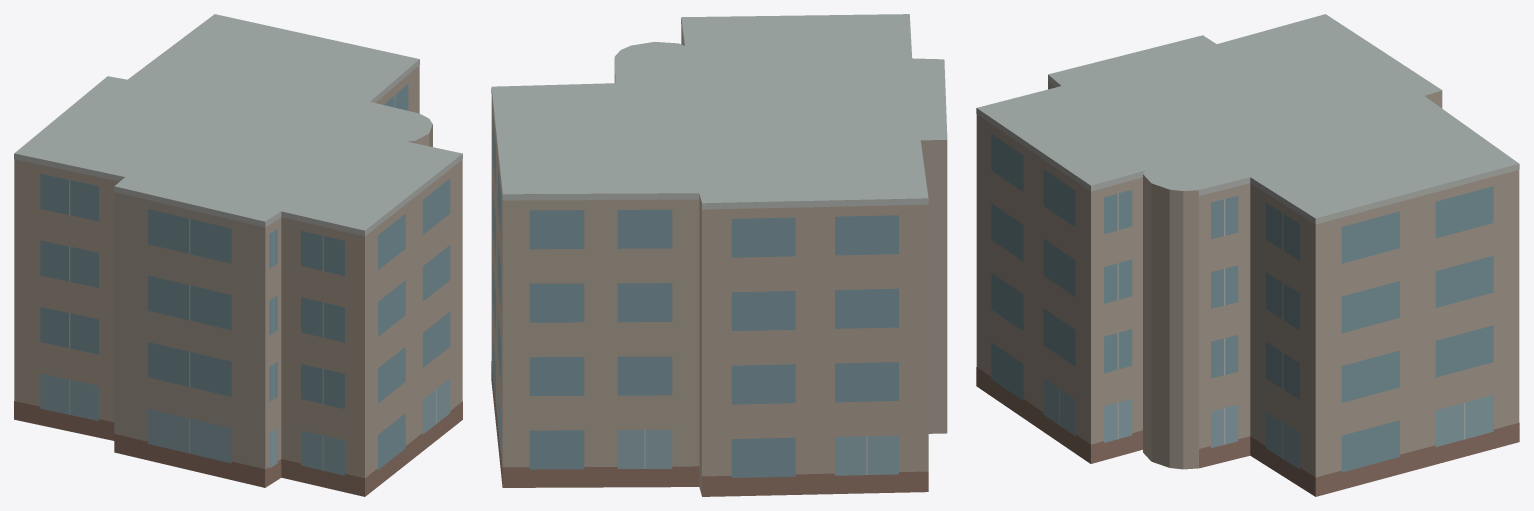
Rendered from survey-upis-32995252.glb.
The picture shows the model from 3 angles, left to right: view 1: azimuth 30°, elevation 25°; view 2: azimuth 150°, elevation 25°; view 3: azimuth 270°, elevation 25°; orthographic projection. The views are drawn at different scales.
Visible parts, largest first — view 1: survey-upis-32995252.tmp; view 2: survey-upis-32995252.tmp; view 3: survey-upis-32995252.tmp.
Part boxes in pixels (x1,y1,x2,y2): survey-upis-32995252.tmp: (14, 14, 462, 496); survey-upis-32995252.tmp: (491, 14, 947, 496); survey-upis-32995252.tmp: (976, 14, 1519, 496).
Bounding box in the file's own units: 17.82 × 11.3 × 19.99.
